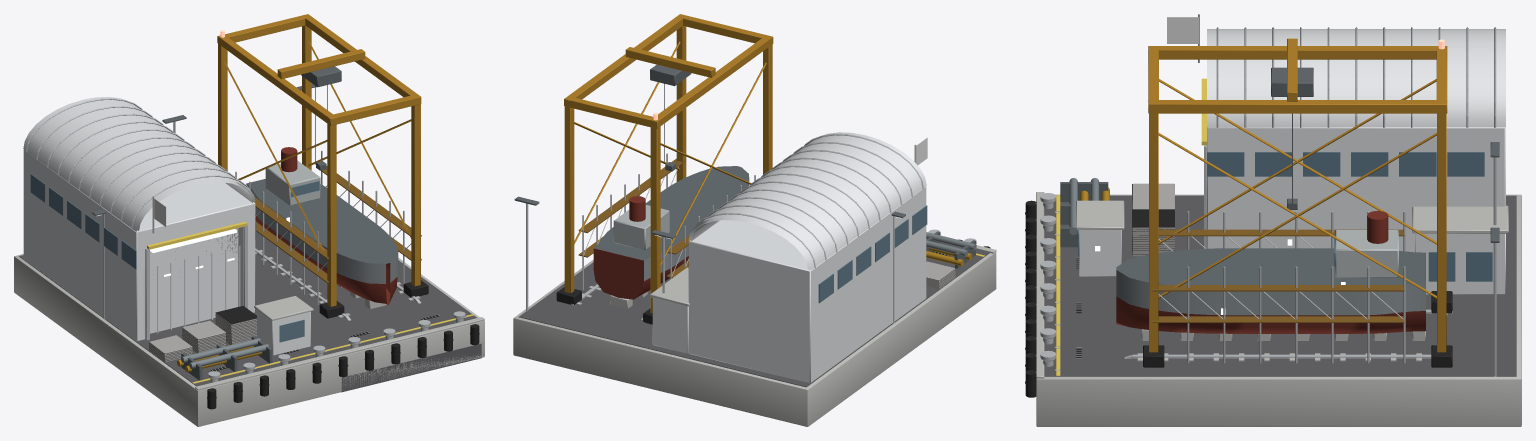
The model's file is shipyard.glb.
3 views of the same model, side by side, from view 1: azimuth 30°, elevation 25°; view 2: azimuth 150°, elevation 25°; view 3: azimuth 270°, elevation 25° (orthographic). The views are drawn at different scales.
Parts seen in each view (by area): view 1: cladding, paint, wall_concrete, asphalt, metal, dark, glass, wood, steel_dark, hazard, glow_warm; view 2: cladding, paint, wall_concrete, asphalt, metal, glass, steel_dark, wood, dark; view 3: cladding, paint, wall_concrete, asphalt, metal, glass, wood, dark, steel_dark, hazard, banner.
Boxes of the visible parts, box(x1,y1,x2,y2) form: cladding: box(23, 97, 310, 355); paint: box(177, 14, 421, 372); wall_concrete: box(14, 250, 484, 426); asphalt: box(19, 231, 481, 392); metal: box(26, 98, 466, 382); dark: box(149, 230, 479, 409); glass: box(30, 174, 319, 342); wood: box(253, 166, 421, 283); steel_dark: box(92, 66, 341, 380); hazard: box(147, 221, 473, 383); glow_warm: box(97, 87, 337, 276); cladding: box(652, 132, 926, 383); paint: box(564, 14, 976, 313); wall_concrete: box(513, 245, 996, 426); asphalt: box(519, 239, 989, 387); metal: box(526, 134, 976, 323); glass: box(818, 205, 927, 303); steel_dark: box(514, 64, 975, 268); wood: box(578, 158, 691, 278); dark: box(556, 239, 990, 324); cladding: box(1079, 29, 1505, 294); paint: box(1069, 38, 1447, 352); wall_concrete: box(1036, 192, 1521, 426); asphalt: box(1044, 195, 1516, 376); metal: box(1035, 14, 1496, 376); glass: box(1078, 152, 1492, 281); wood: box(1152, 229, 1404, 322); dark: box(1025, 184, 1452, 397); steel_dark: box(1060, 67, 1499, 247); hazard: box(1056, 78, 1206, 375); banner: box(1167, 17, 1198, 43).
Bounding box in the file's own units: 17.2 × 13.2 × 18.62.
